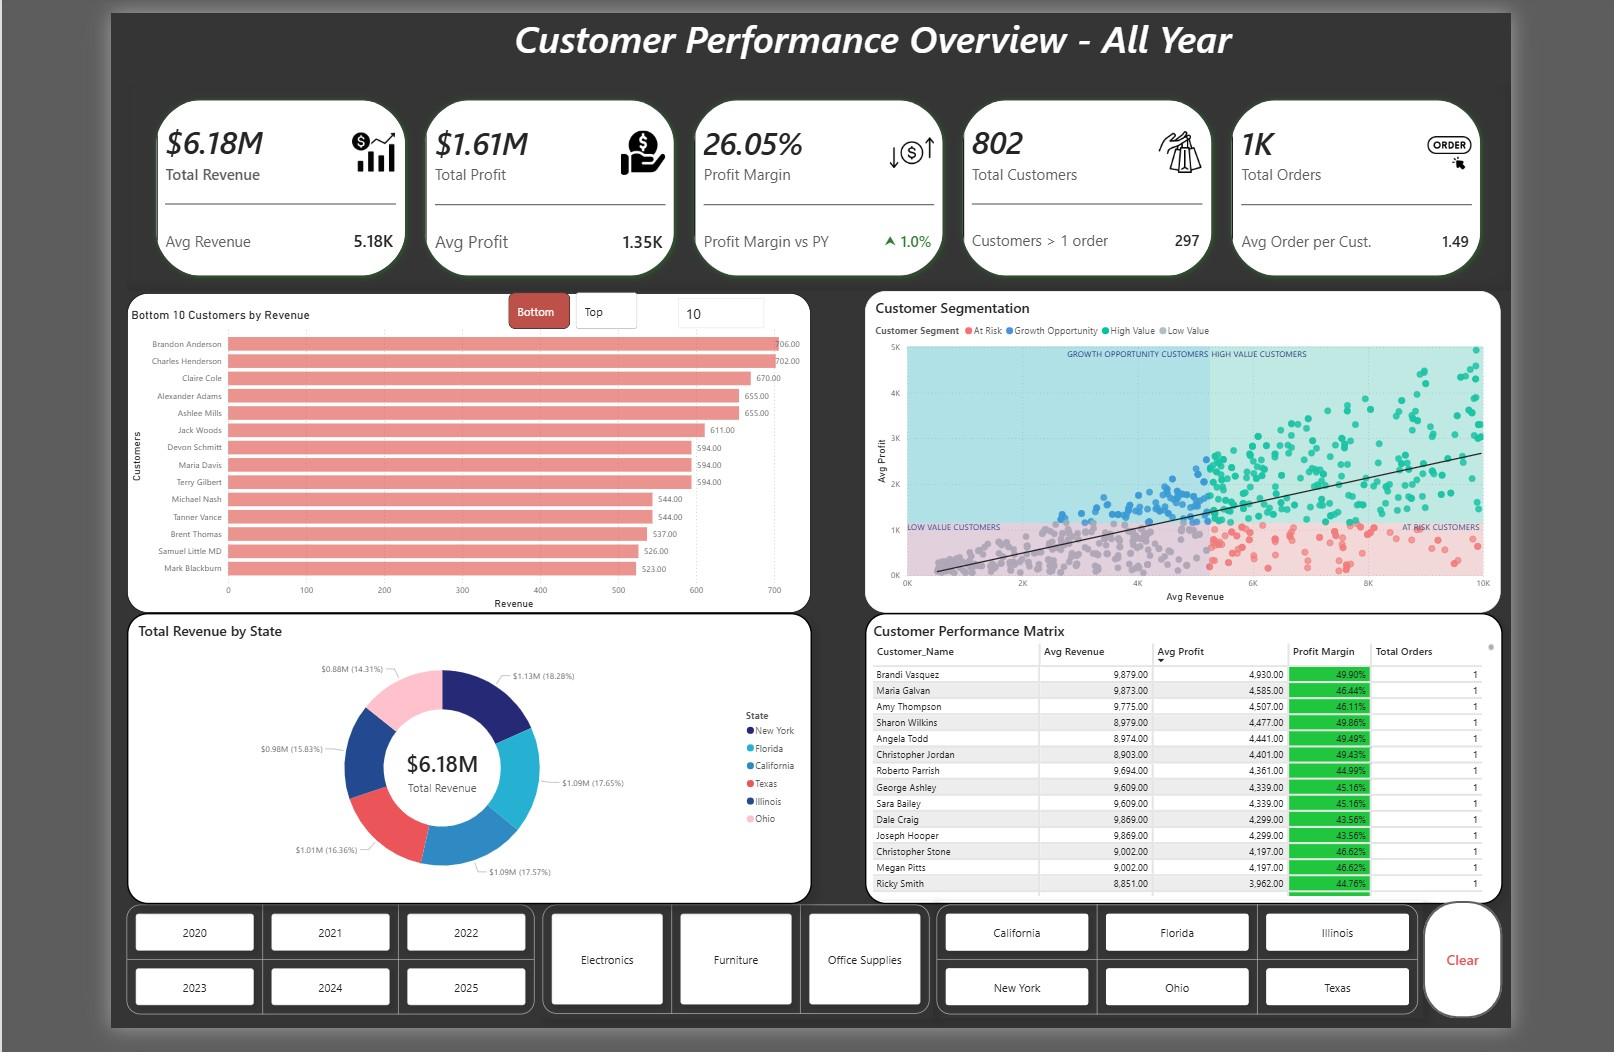

The dashboard page shown, as its layout file describes it:
{"tool":"powerbi","page":{"name":"Customer","canvas":[2000,1600],"ordinal":3},"visuals":[{"type":"cardVisual","fields":{"Data":["analytics Sales_Fact.Total Revenue","analytics Sales_Fact.Total Profit","analytics Sales_Fact.Profit Margin","measures (2).Total Customers","measures (2).Total Orders"]},"box":[21.6,102.7,1978.4,294.6],"z":0},{"type":"barChart","fields":{"Category":["analytics Customer_Dim.Customer_Name"],"Y":["measures (2).Selected Metric Value"]},"box":[16.2,397.3,991.9,459.5],"z":1000},{"type":"pivotTable","fields":{"Values":["measures (2).Avg Revenue","measures (2).Avg Profit","analytics Sales_Fact.Profit Margin","measures (2).Total Orders"],"Rows":["analytics Customer_Dim.Customer_Name"]},"box":[1078.4,835.1,910.8,432.4],"z":2000},{"type":"advancedSlicerVisual","fields":{"Values":["Date.Year"]},"box":[16.2,1267.6,594.6,167.6],"z":3000},{"type":"advancedSlicerVisual","fields":{"Values":["analytics Product_Dim.Category"]},"box":[612,1268.1,563,166.5],"z":4000},{"type":"advancedSlicerVisual","fields":{"Values":["analytics Customer_Dim.State"]},"box":[1173,1267.6,700,167.6],"z":5000},{"type":"donutChart","fields":{"Y":["analytics Sales_Fact.Total Revenue"],"Category":["analytics Customer_Dim.State"]},"box":[21.6,856.8,978.4,416.2],"z":6000},{"type":"card","fields":{"Values":["analytics Sales_Fact.Total Revenue"]},"box":[408.1,1027,129.7,113.5],"z":7000},{"type":"textbox","box":[537.8,0,1102.7,102.7],"z":8000},{"type":"advancedSlicerVisual","fields":{"Values":["top/bottom.Value"]},"box":[681.1,397.3,289.2,45.9],"z":9000},{"type":"advancedSlicerVisual","fields":{"Values":["MetricToggle.Metric"]},"box":[313.5,394.6,364.9,53],"z":10000},{"type":"scatterChart","fields":{"X":["measures (2).Avg Revenue"],"Category":["analytics Customer_Dim.Customer_Name"],"Y":["measures (2).Avg Profit"],"Size":["measures (2).Total Orders"]},"box":[1078.4,397.3,908.1,437.8],"z":11000},{"type":"actionButton","box":[1873,1267.6,113.5,167.6],"z":12000}]}

Visuals, with their boxes on the page's 2000x1600 design canvas (x1, y1, x2, y2). These are canvas units, not pixel positions in the 1614x1052 screenshot, which may show the page scaled, cropped or inside an application window:
cardVisual - analytics Sales_Fact.Total Revenue x analytics Sales_Fact.Total Profit: (22,103,2000,397)
barChart - analytics Customer_Dim.Customer_Name x measures (2).Selected Metric Value: (16,397,1008,857)
pivotTable - measures (2).Avg Revenue x measures (2).Avg Profit: (1078,835,1989,1268)
advancedSlicerVisual - Date.Year: (16,1268,611,1435)
advancedSlicerVisual - analytics Product_Dim.Category: (612,1268,1175,1435)
advancedSlicerVisual - analytics Customer_Dim.State: (1173,1268,1873,1435)
donutChart - analytics Sales_Fact.Total Revenue x analytics Customer_Dim.State: (22,857,1000,1273)
card - analytics Sales_Fact.Total Revenue: (408,1027,538,1140)
textbox: (538,0,1640,103)
advancedSlicerVisual - top/bottom.Value: (681,397,970,443)
advancedSlicerVisual - MetricToggle.Metric: (314,395,678,448)
scatterChart - measures (2).Avg Revenue x analytics Customer_Dim.Customer_Name: (1078,397,1986,835)
actionButton: (1873,1268,1986,1435)
